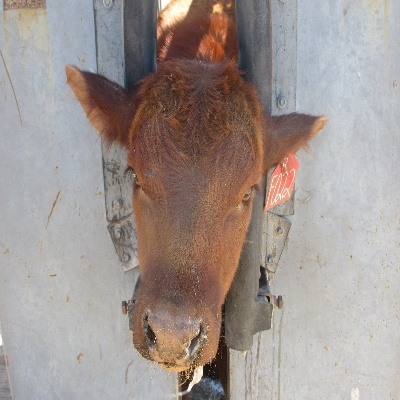fidget_spinner: (137, 304, 205, 370)
